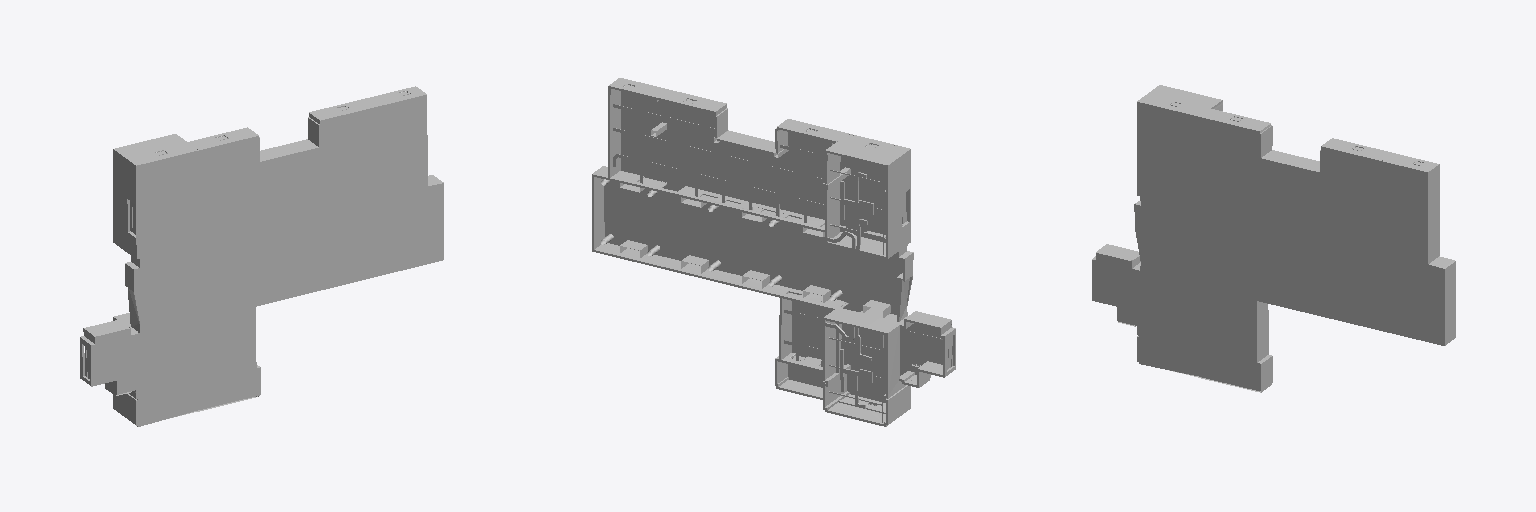
Rendered from iilab2xr.obj.
3 views of the same model, side by side, from view 1: azimuth 30°, elevation 25°; view 2: azimuth 150°, elevation 25°; view 3: azimuth 330°, elevation 25° (orthographic).
Parts seen in each view (by area): view 1: Floor, Wall3.001, Wall4.001, Wall2, Wall1; view 2: Floor, Wall1, Wall3.001, Wall4.001, CealingFrame, Wall2, Shafts, Ventilation, Ventilation_001, RoundedPosts; view 3: Floor, Wall4.001, Wall1, Wall3.001.
Part boxes in pixels (x1,y1,x2,y2): Floor: (90, 94, 443, 426); Wall3.001: (113, 134, 198, 258); Wall4.001: (190, 86, 425, 160); Wall2: (80, 256, 138, 395); Wall1: (113, 175, 441, 426); Floor: (602, 78, 955, 408); Wall1: (592, 167, 909, 426); Wall3.001: (825, 134, 909, 258); Wall4.001: (608, 78, 845, 177); CealingFrame: (613, 96, 885, 242); Wall2: (896, 246, 954, 387); Shafts: (620, 183, 890, 317); Ventilation: (825, 322, 872, 408); Ventilation_001: (827, 172, 873, 249); RoundedPosts: (601, 179, 842, 300); Floor: (1092, 101, 1445, 390); Wall4.001: (1203, 109, 1439, 263); Wall1: (1169, 256, 1455, 392); Wall3.001: (1138, 85, 1222, 116).
Size of the model in its own units: 69.77 by 49.64 by 7.98.